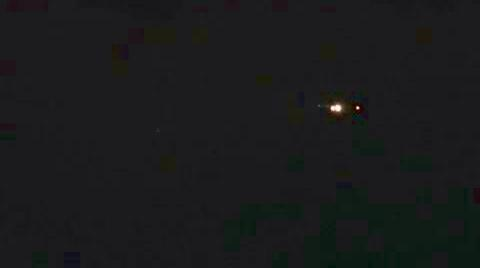Plane: (298, 76, 390, 133)
